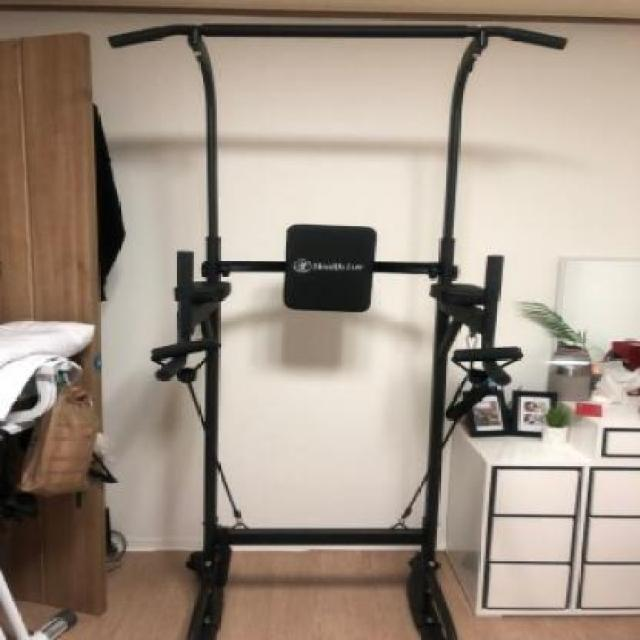chinning dipping: (107, 21, 566, 640)
